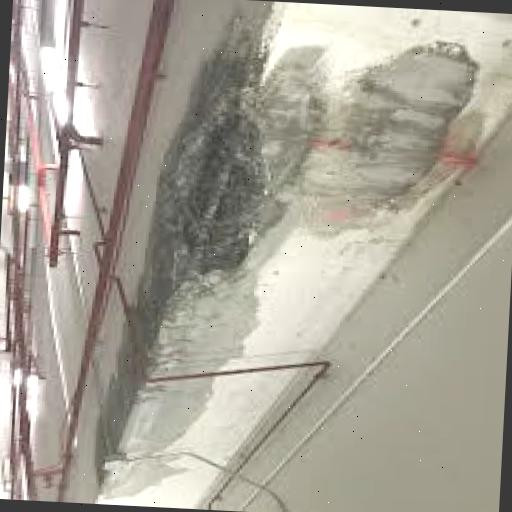spalling: (141, 35, 484, 319)
